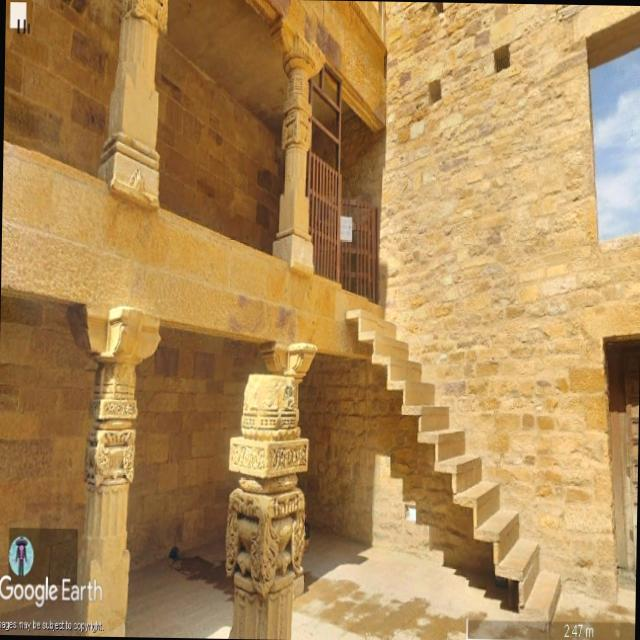objects-ruins-artifacts: (71, 12, 362, 281), (175, 368, 439, 603)
